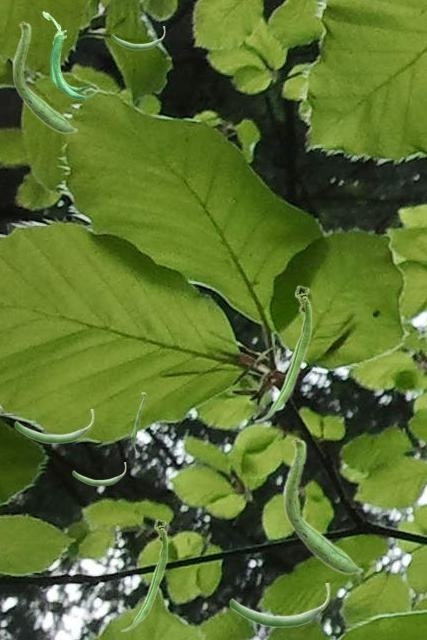french_bean: (283, 436, 363, 574), (253, 284, 311, 422), (12, 20, 77, 133), (120, 518, 167, 631), (42, 11, 95, 98), (229, 583, 329, 627), (14, 409, 93, 443), (111, 26, 164, 49), (72, 462, 125, 485), (131, 392, 145, 454)
